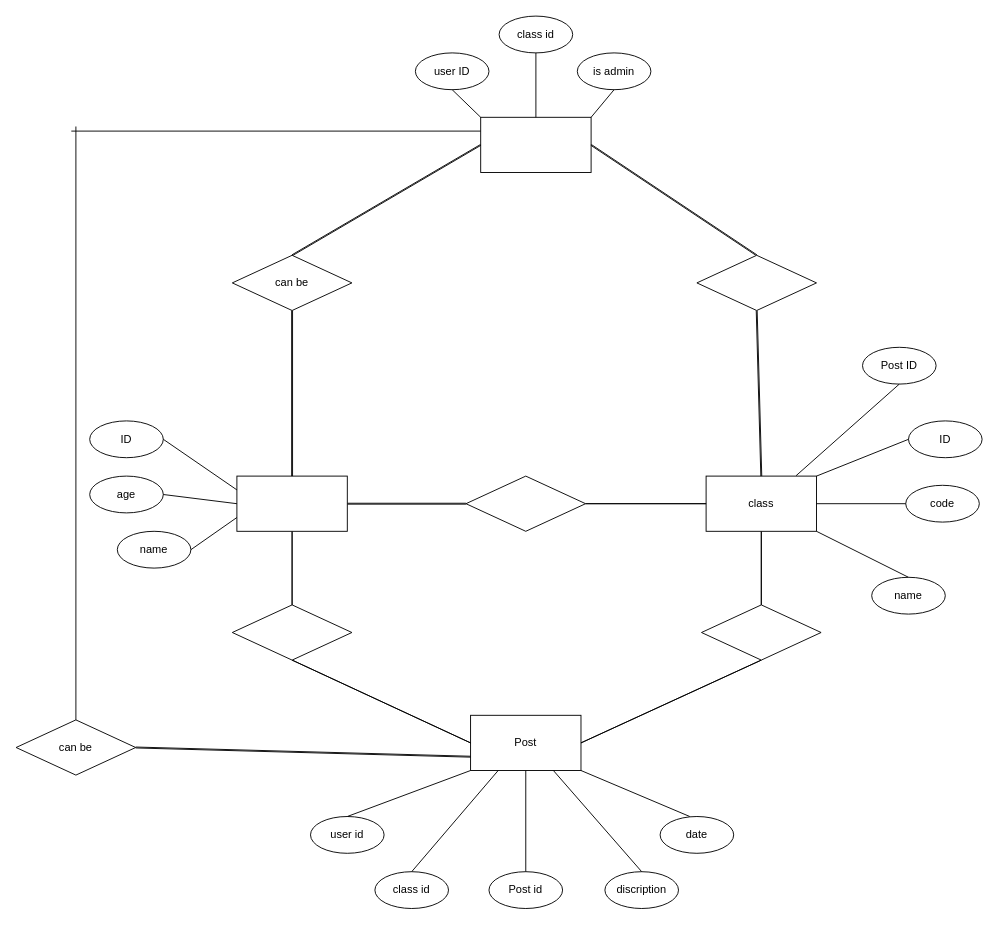
This 998x925 diagram has some shape labels left out. Here are the shapes that lost their labels. From the top down, the centre of each, then its label:
At (535,144): "class admin".
At (756,282): "controll".
At (291,503): "user".
At (525,503): "Join".
At (291,632): "upload".
At (761,632): "contain of".
